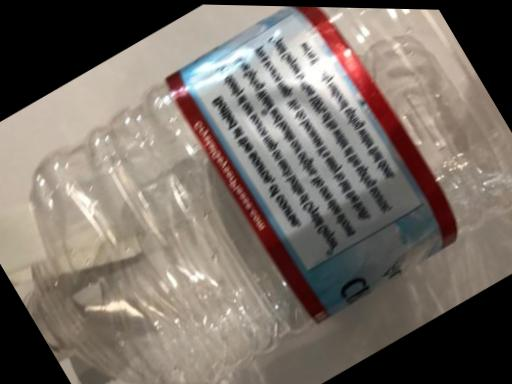plastic: (0, 6, 511, 383)
